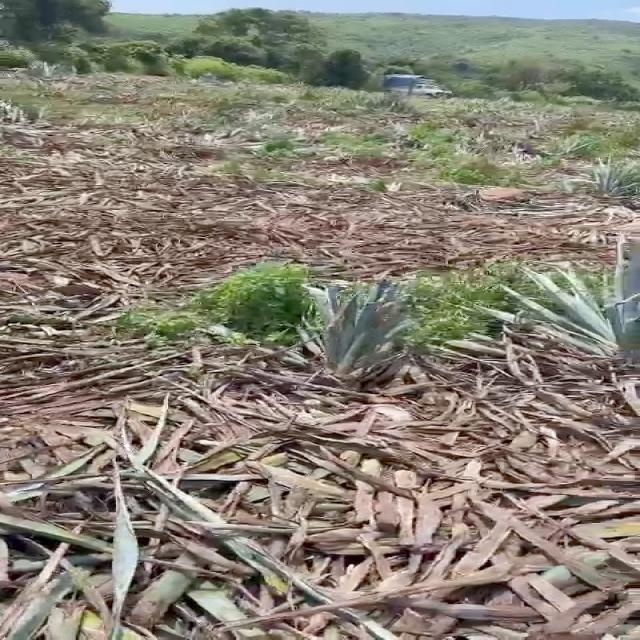agave: (280, 276, 416, 389)
